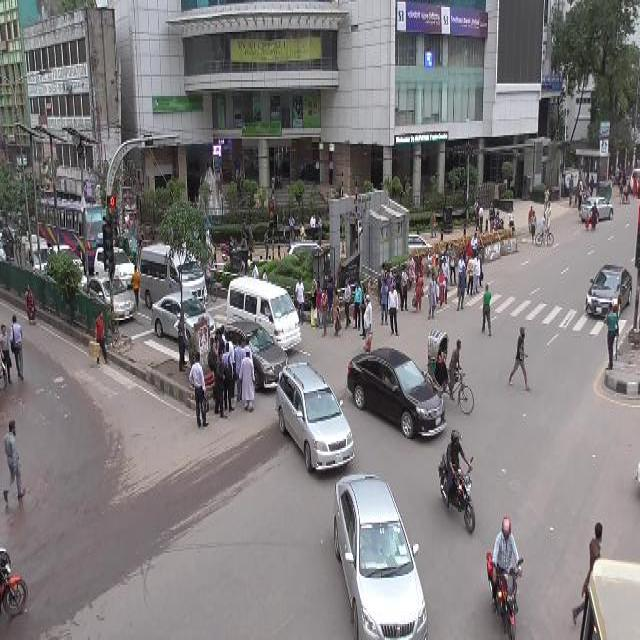10: (484, 514, 526, 638), (436, 427, 482, 537)
13: (420, 326, 476, 414)
19: (226, 270, 302, 348), (136, 242, 208, 309)
5: (327, 464, 431, 638), (345, 344, 447, 442), (274, 360, 356, 472), (222, 316, 290, 396), (582, 263, 630, 317)
Motorcycle: (534, 212, 556, 246)
Truck: (34, 188, 106, 252)
